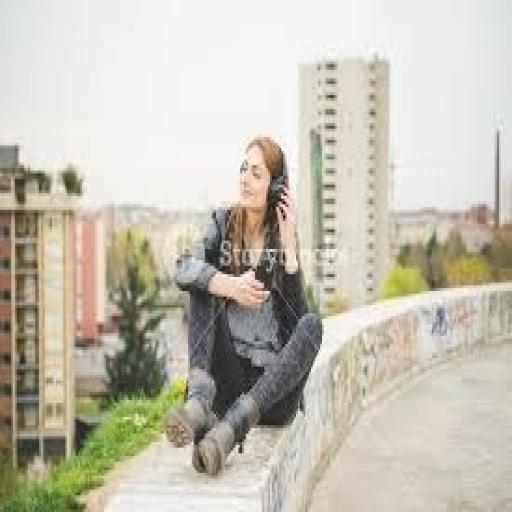listening_to_music: (162, 132, 326, 478)
